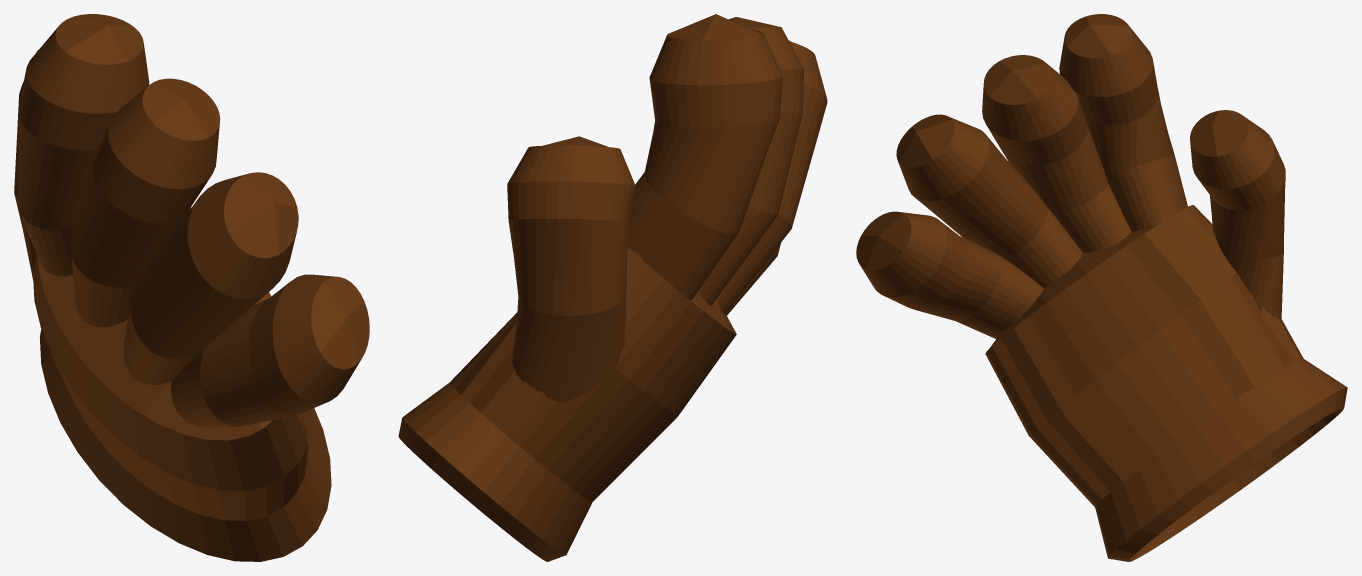
The model's file is glove.fbx.
3 renders of one model, left to right at view 1: azimuth 30°, elevation 25°; view 2: azimuth 150°, elevation 25°; view 3: azimuth 270°, elevation 25°, orthographic. The views are drawn at different scales.
Visible parts, largest first — view 1: Cylinder, Cylinder.002, Cylinder.003, Cylinder.001, Cylinder.004, Cylinder.005; view 2: Cylinder, Cylinder.001, Cylinder.005, Cylinder.002, Cylinder.003; view 3: Cylinder, Cylinder.001, Cylinder.003, Cylinder.002, Cylinder.004, Cylinder.005.
Part boxes in pixels (x1,y1,x2,y2): Cylinder: (33,207,331,561); Cylinder.002: (70,78,220,326); Cylinder.003: (123,172,298,384); Cylinder.001: (17,14,149,276); Cylinder.004: (171,274,369,427); Cylinder.005: (14,50,38,280); Cylinder: (398,247,736,561); Cylinder.001: (627,14,782,300); Cylinder.005: (507,136,635,402); Cylinder.002: (698,17,803,305); Cylinder.003: (716,40,827,314); Cylinder: (985,205,1347,561); Cylinder.001: (1059,14,1187,231); Cylinder.003: (896,114,1082,288); Cylinder.002: (982,55,1131,252); Cylinder.004: (856,211,1043,338); Cylinder.005: (1190,110,1285,319).
Size of the model in its own units: 242 by 413 by 394.
